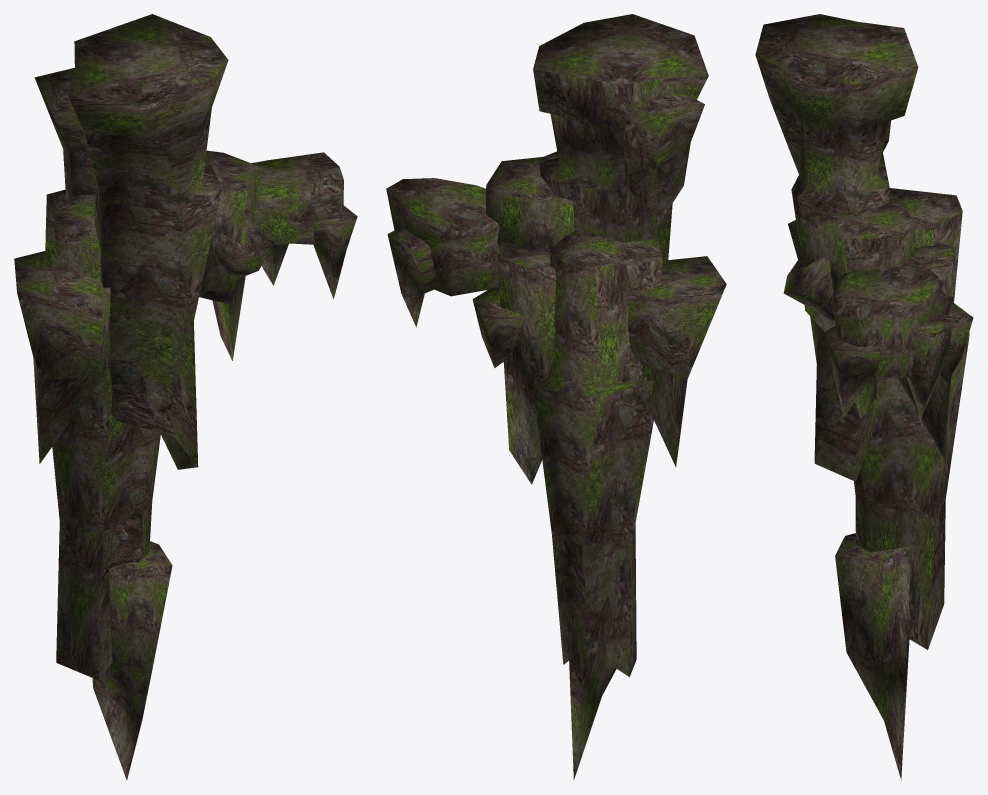
File: S_Rock_Green027.FBX
The picture shows the model from 3 angles, left to right: view 1: azimuth 30°, elevation 25°; view 2: azimuth 150°, elevation 25°; view 3: azimuth 270°, elevation 25°; orthographic projection. The views are drawn at different scales.
Visible parts, largest first — view 1: S_Rock_Green027; view 2: S_Rock_Green027; view 3: S_Rock_Green027.
Part boxes in pixels (bbox=[...]): S_Rock_Green027: bbox=[14, 14, 357, 780]; S_Rock_Green027: bbox=[386, 14, 726, 780]; S_Rock_Green027: bbox=[755, 14, 973, 780].
Size of the model in its own units: 834 by 486 by 1799.
